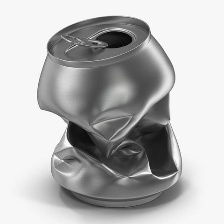can: (34, 12, 188, 210)
